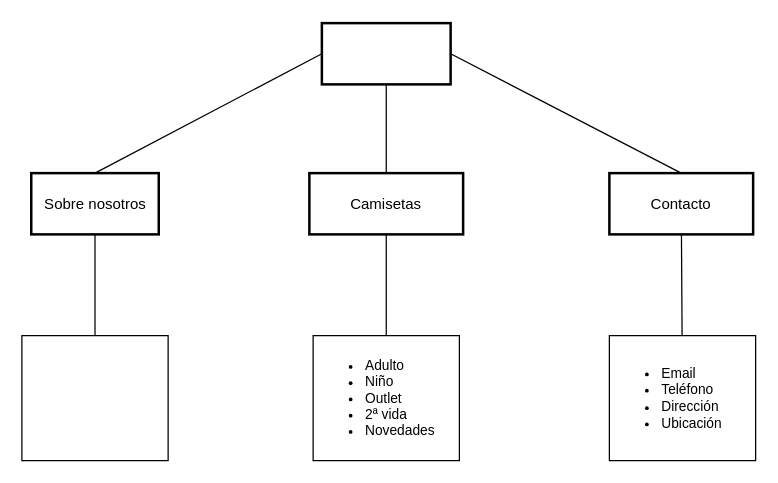
Image size: 778x483. Some labels were removed from this diagram. The centre of each missing label's shape, as x and y in pixels:
"Historia Equipo" goes at (x=94, y=397).
"Homepage" goes at (x=385, y=53).
